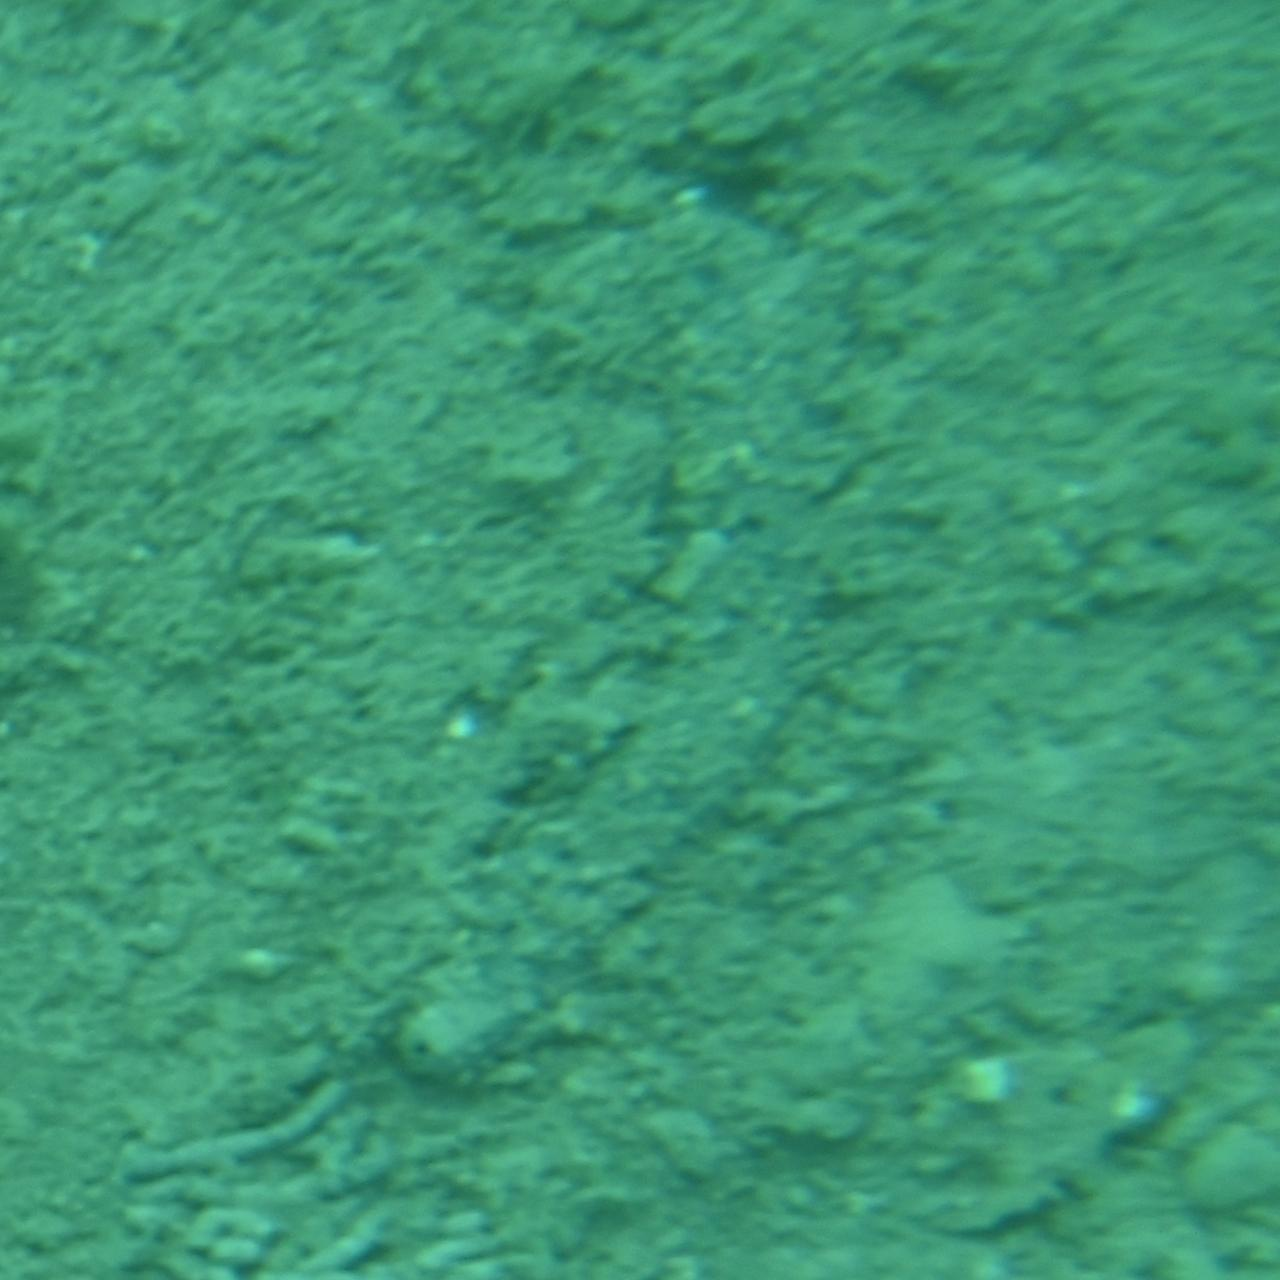Holothuria tubulosa: (397, 189, 883, 1091)
